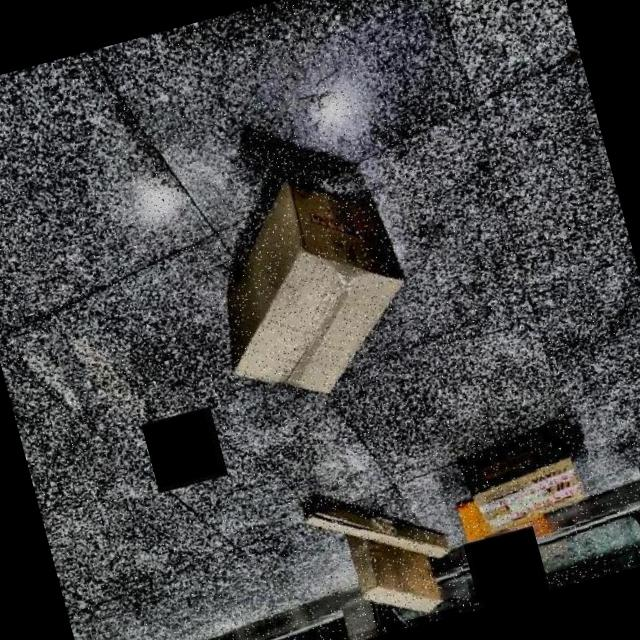box: (182, 150, 436, 422), (282, 463, 472, 640), (444, 411, 599, 538)
